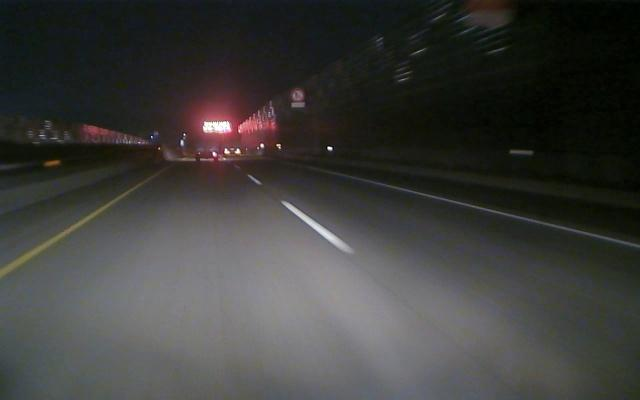lane: (354, 178, 638, 249), (1, 192, 127, 278), (249, 176, 360, 255)
